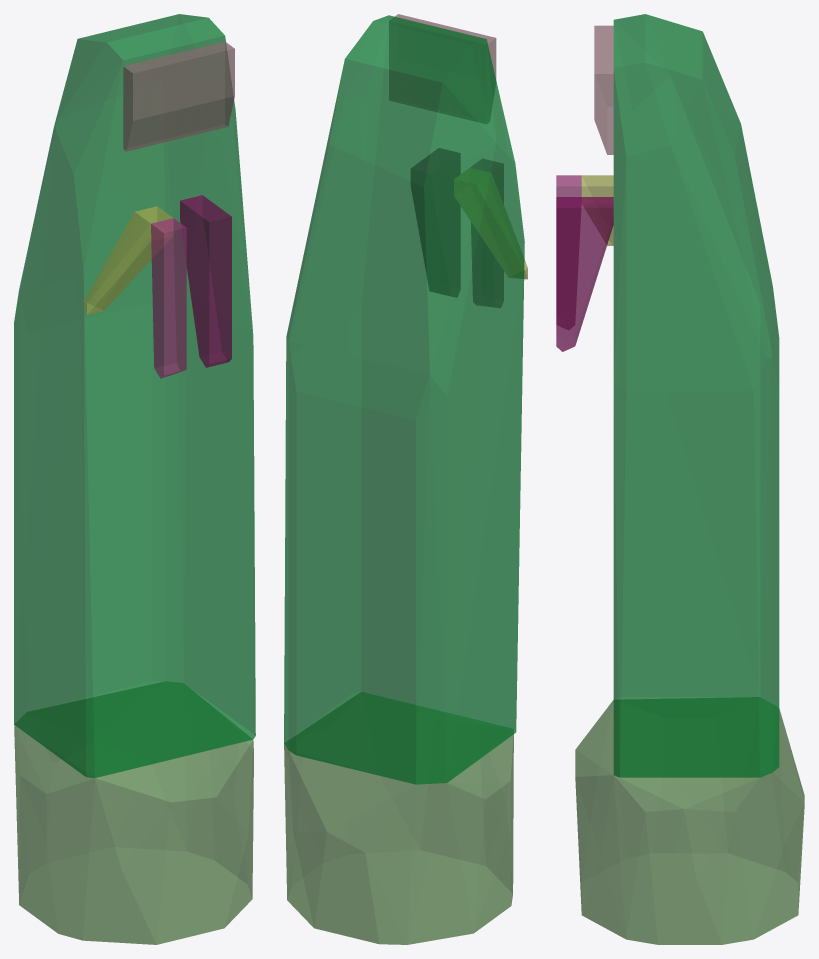
Rendered from true_tool_meter.obj.
3 views of the same model, side by side, from view 1: azimuth 30°, elevation 25°; view 2: azimuth 150°, elevation 25°; view 3: azimuth 270°, elevation 25° (orthographic). The views are drawn at different scales.
Parts seen in each view (by area): view 1: Shape_convex_5, Shape_convex_6, Shape_convex_4, Shape_convex_3, Shape_convex_2, Shape_convex_1; view 2: Shape_convex_5, Shape_convex_6, Shape_convex_4, Shape_convex_3, Shape_convex_1, Shape_convex_2; view 3: Shape_convex_5, Shape_convex_6, Shape_convex_3, Shape_convex_2, Shape_convex_4, Shape_convex_1.
Boxes of the visible parts, x1,y1,x2,y2 form: Shape_convex_5: (14,14,255,778); Shape_convex_6: (14,682,253,944); Shape_convex_4: (123,41,234,151); Shape_convex_3: (180,195,231,367); Shape_convex_2: (151,218,186,378); Shape_convex_1: (83,206,173,315); Shape_convex_5: (284,15,524,784); Shape_convex_6: (284,692,513,944); Shape_convex_4: (389,14,496,123); Shape_convex_3: (411,148,459,296); Shape_convex_1: (454,168,527,279); Shape_convex_2: (471,159,503,307); Shape_convex_5: (613,14,779,777); Shape_convex_6: (575,697,804,944); Shape_convex_3: (556,197,613,351); Shape_convex_2: (556,175,581,329); Shape_convex_4: (594,25,613,154); Shape_convex_1: (581,175,613,245).
Size of the model in its own units: 0.0828 by 0.3428 by 0.0897.
